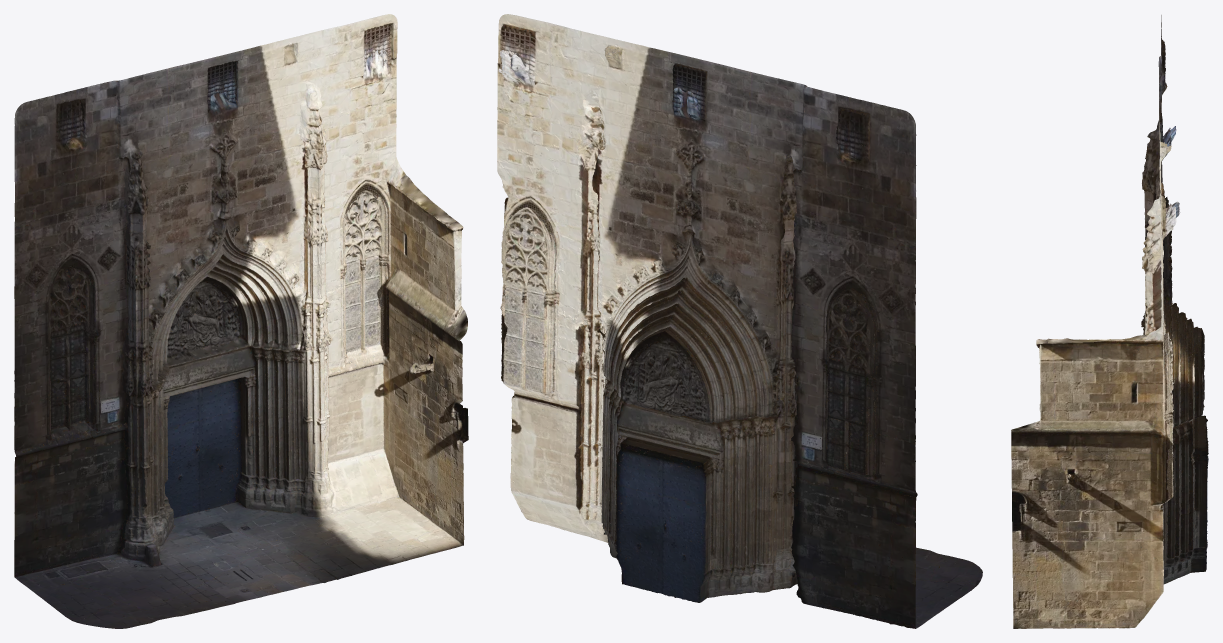
The model's file is cathedral_of_barcelona_side_entrance.glb.
The picture shows the model from 3 angles, left to right: view 1: azimuth 30°, elevation 25°; view 2: azimuth 150°, elevation 25°; view 3: azimuth 270°, elevation 25°; orthographic projection. The views are drawn at different scales.
Visible parts, largest first — view 1: Gothic_Cathedral_door; view 2: Gothic_Cathedral_door; view 3: Gothic_Cathedral_door.
Part boxes in pixels (bbox=[...]): Gothic_Cathedral_door: bbox=[14, 14, 468, 628]; Gothic_Cathedral_door: bbox=[497, 14, 982, 628]; Gothic_Cathedral_door: bbox=[1011, 15, 1208, 628].
Size of the model in its own units: 10.52 by 12.58 by 4.98.
1 material, 1 textured.
